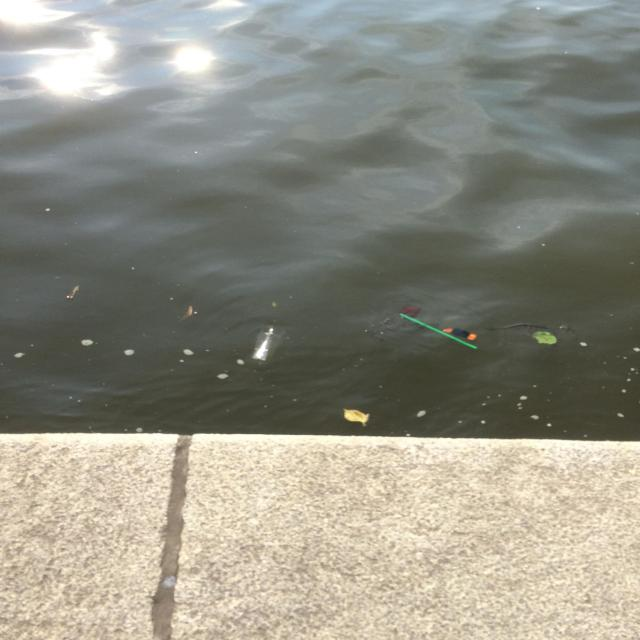Disposable plastic cup: (251, 325, 285, 363)
Other plastic bottle: (443, 328, 477, 340)
Plastic straw: (399, 313, 477, 349)
